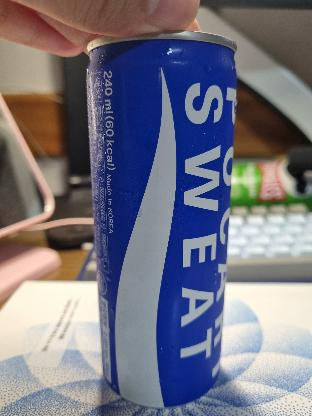Can: (82, 16, 236, 412)
